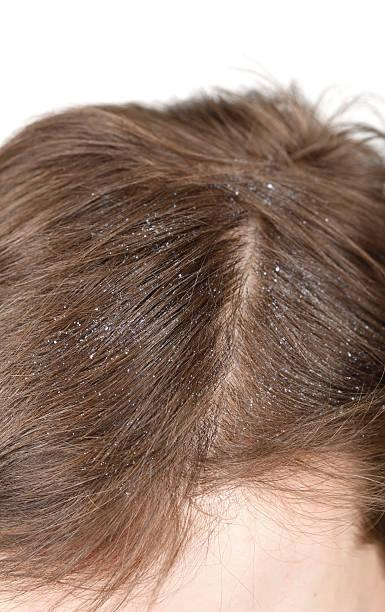dandruff: (227, 334, 385, 417), (49, 297, 196, 355), (234, 241, 341, 313), (109, 193, 184, 284), (212, 159, 290, 227)
